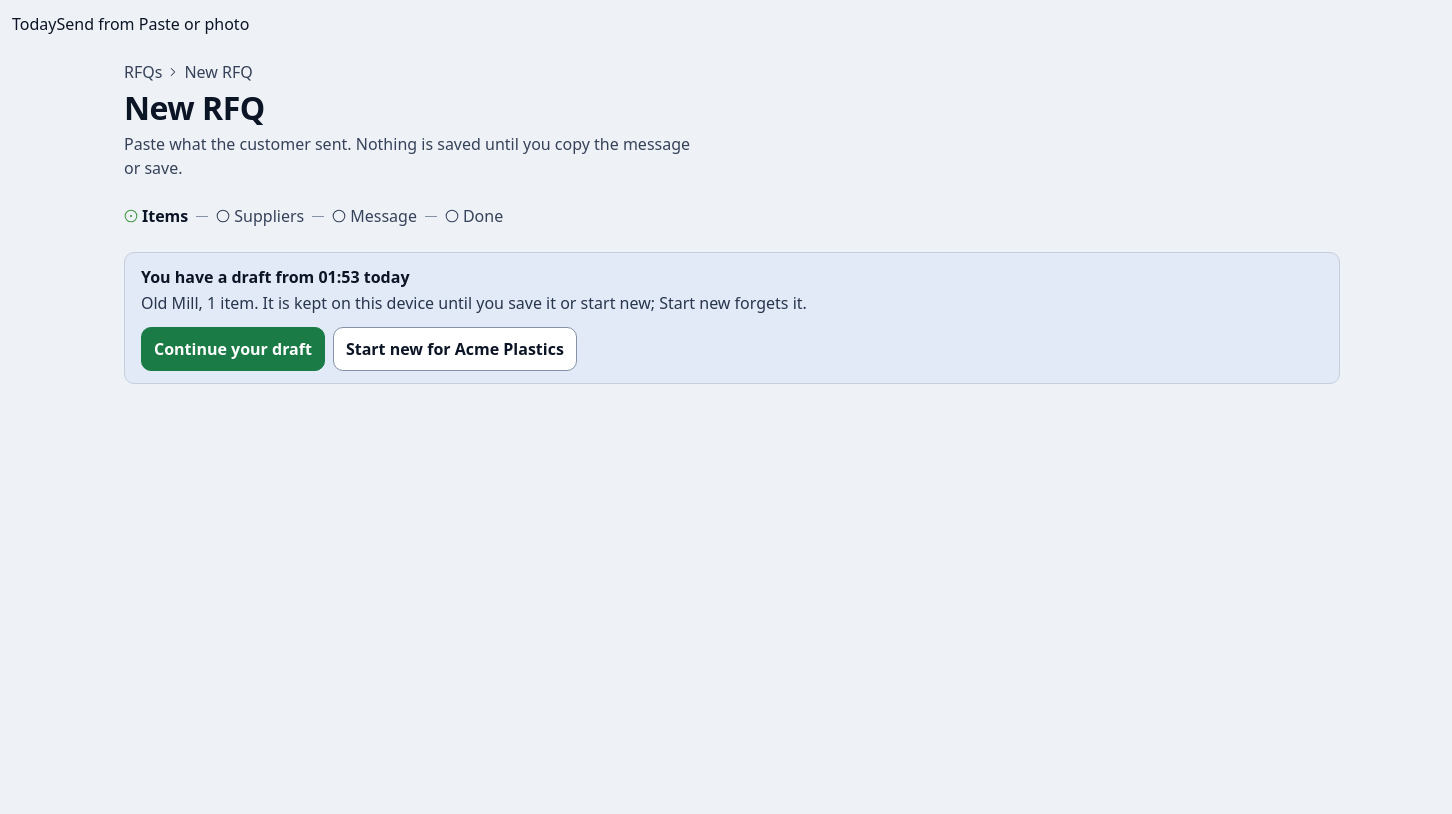
Test: the New RFQ draft (kept on this device) › is offered on every way in: from a company page the draft comes first, it is not written over, and the company waits for Start new
Expected: the heading "You have a draft from 01:53 today" is shown, [141, 266, 410, 288]
Expected: the text "Old Mill, 1 item." is shown, [141, 292, 807, 314]
Click the button "Start new for Acme Plastics": (455, 349) [333, 327, 577, 371]
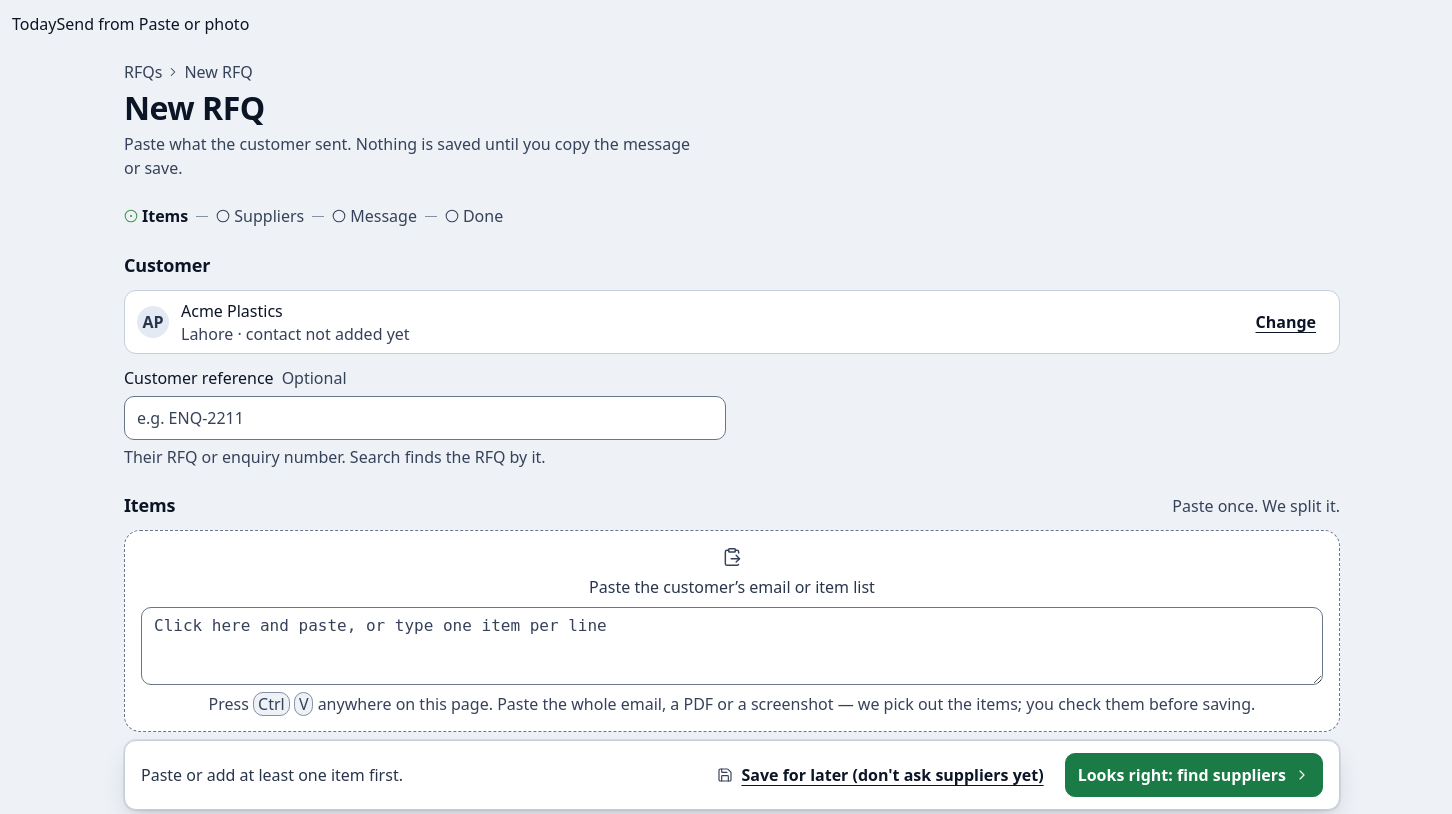
Result: the button with aria-label "Change company, now Acme Plastics" is shown at [1244, 302, 1327, 342]
